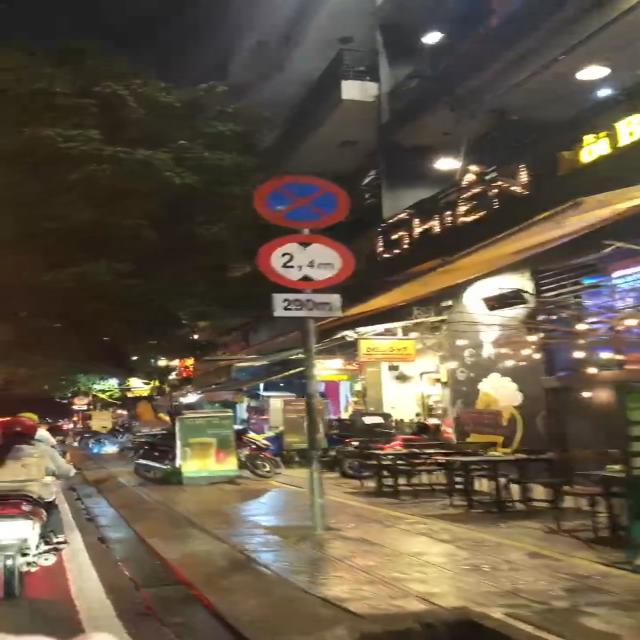Bien bao cam dung xe va do xe: (252, 174, 350, 231)
Bien bao han che chieu cao: (255, 232, 357, 290)
